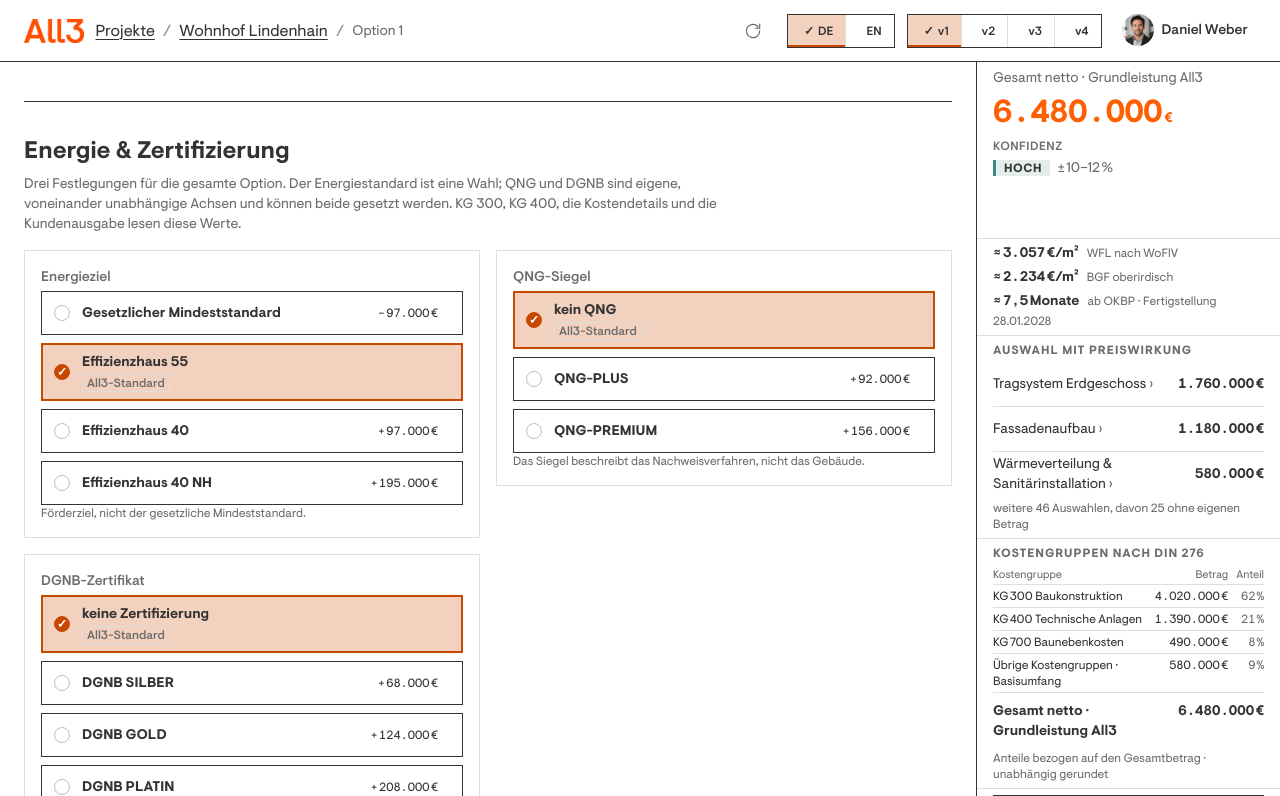
Test case: Сквозной сценарий продажи › Recap после доставки выводится из журнала, а не пишется руками (DC-31)
(page scrolled)
Click the radio button labelled "Effizienzhaus 40 + 97.000 €" at (135, 430), box [41, 409, 463, 453]
(page scrolled)
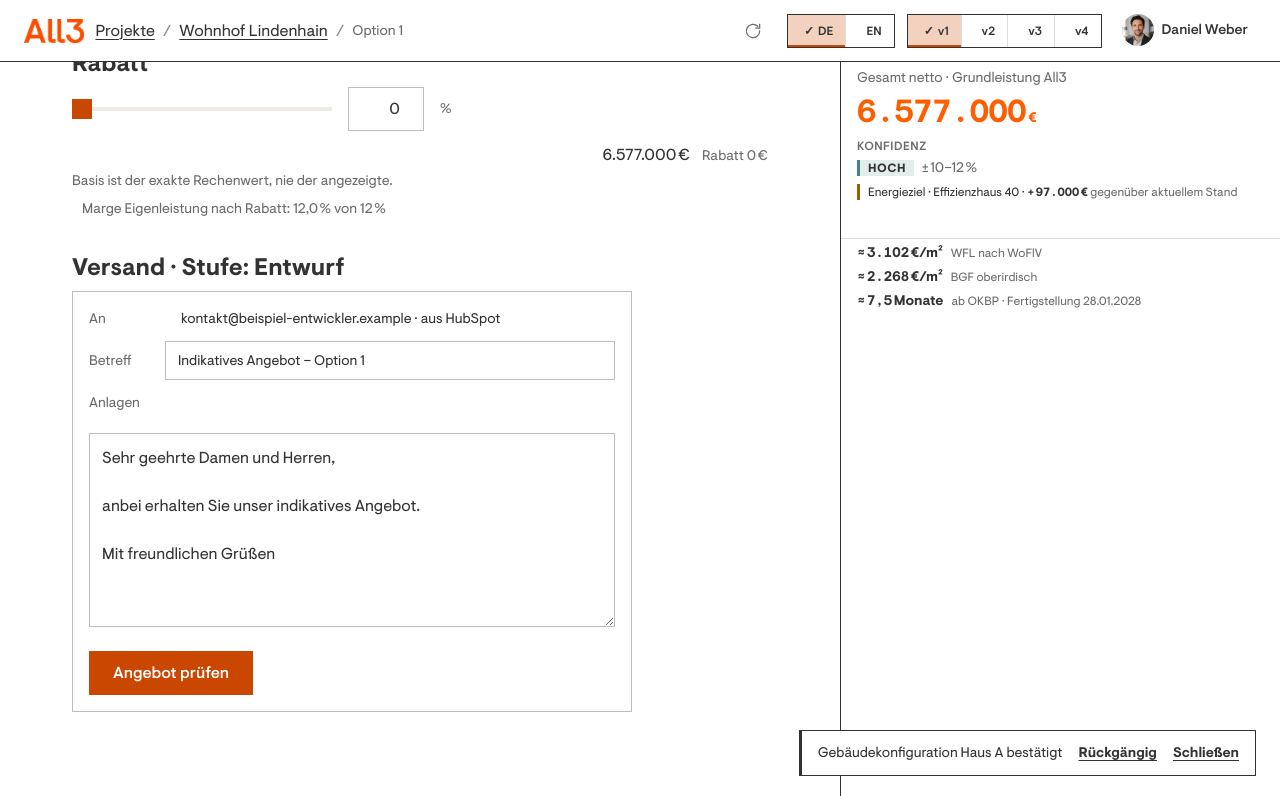
Click the button "Angebot prüfen" at (171, 673), box [89, 651, 253, 695]
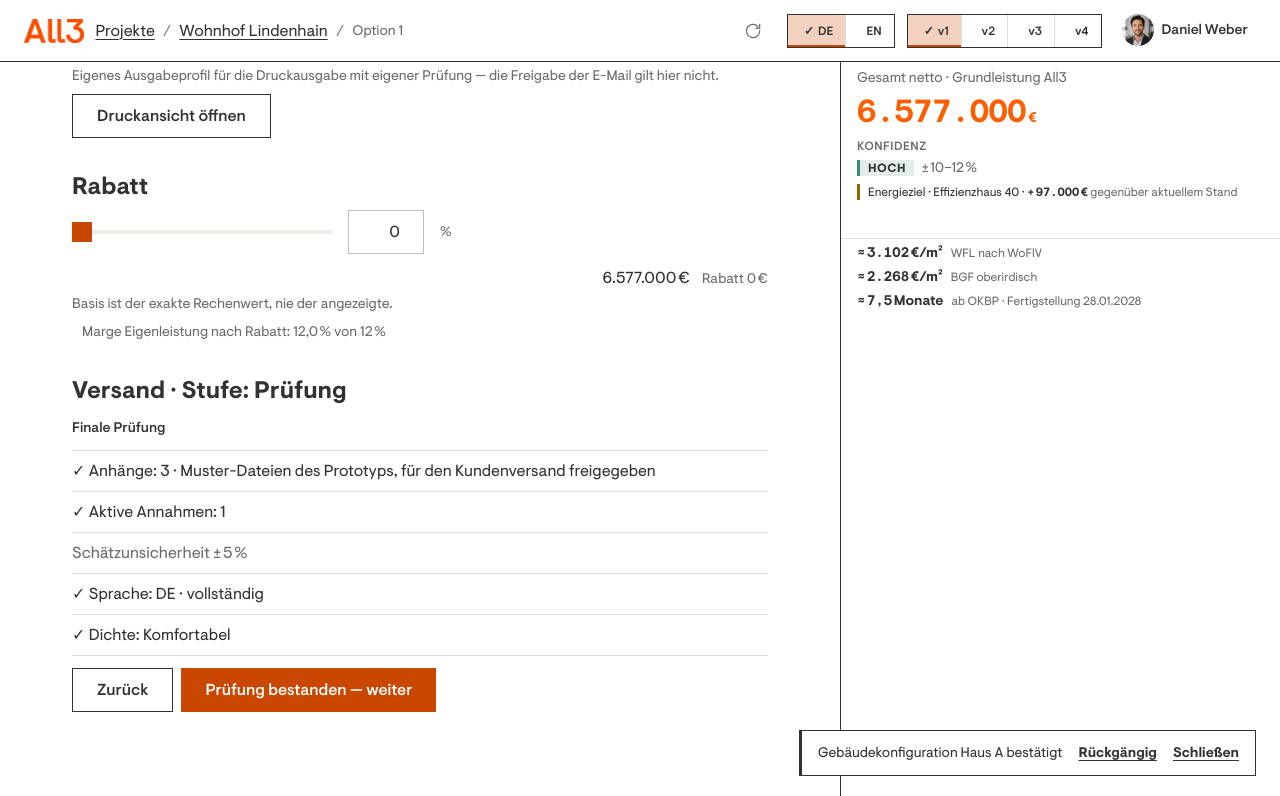
Click the button "Prüfung bestanden — weiter" at (309, 690), box [181, 668, 436, 712]
(page scrolled)
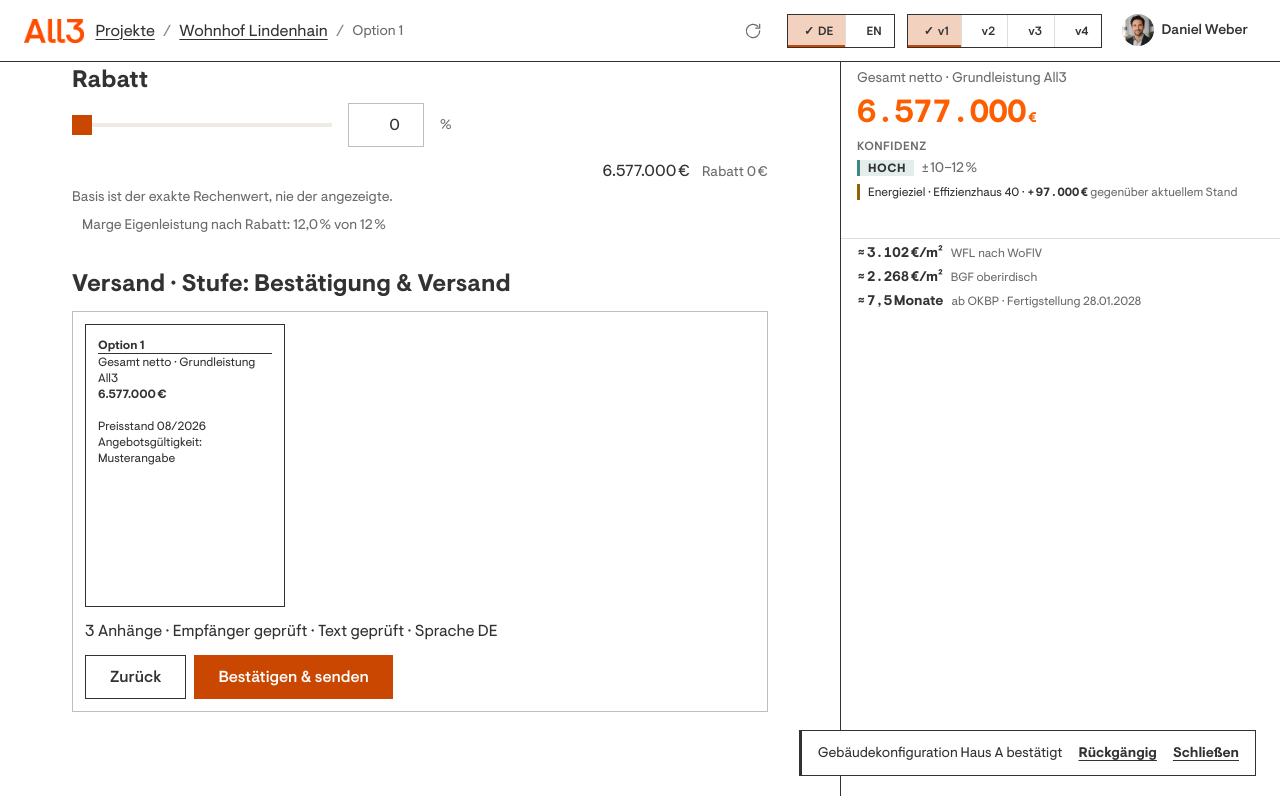
Click the button "Bestätigen & senden" at (294, 677), box [194, 655, 393, 699]
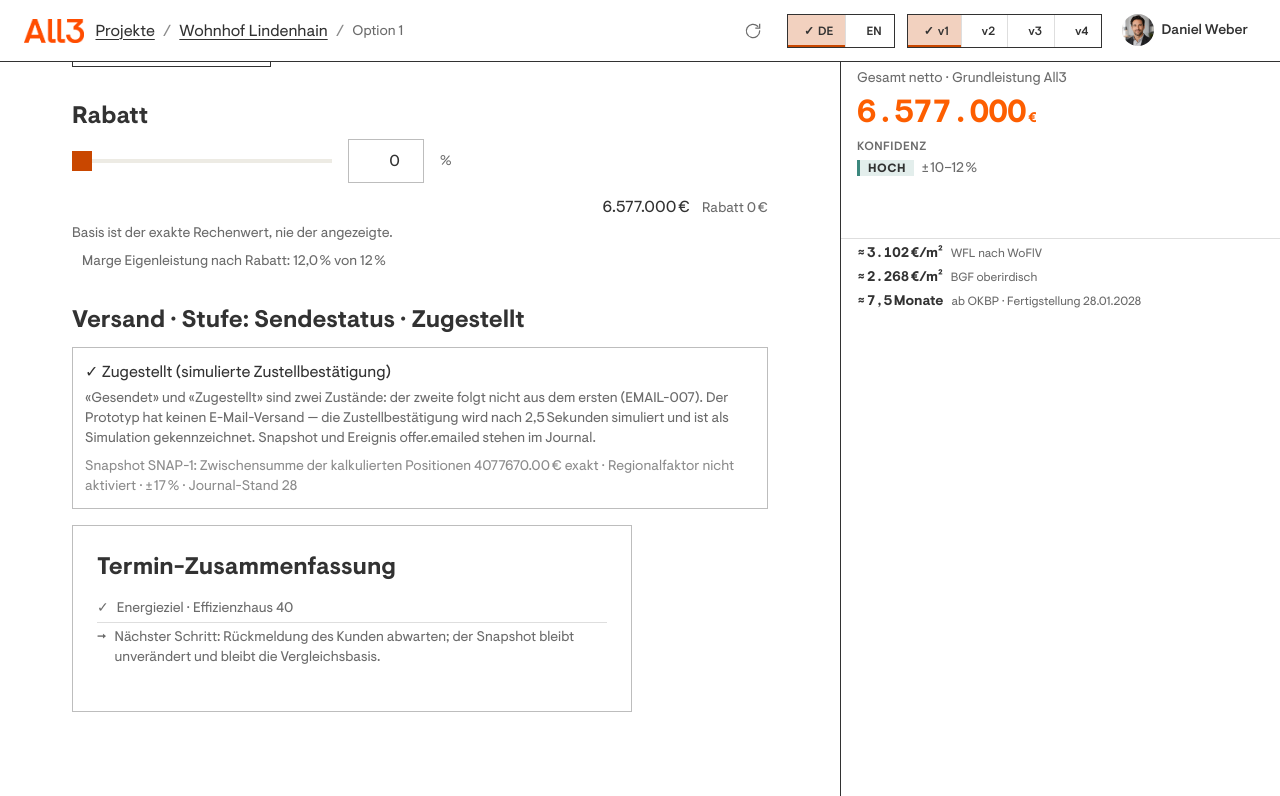
Now the list item "✓ Energieziel · Effizienzhaus 40" is shown, box [97, 594, 607, 623]
